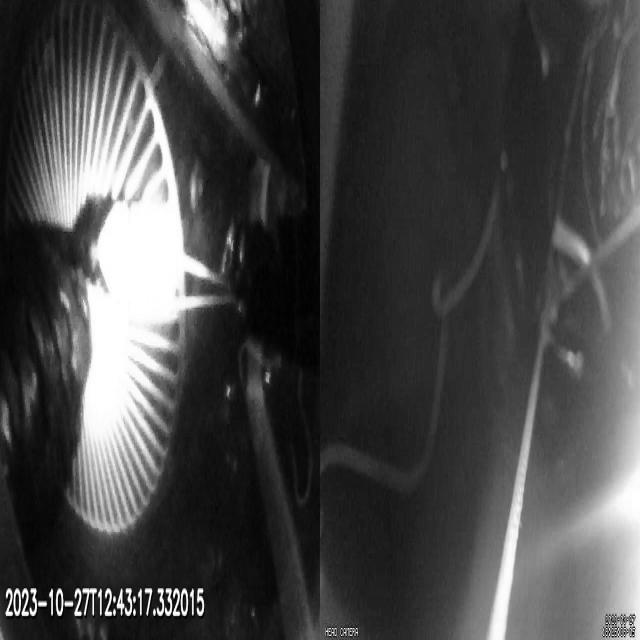head: (102, 198, 182, 320)
